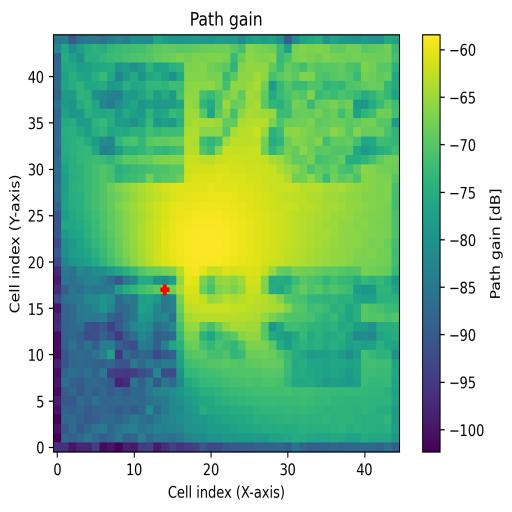Concrete: (284, 65, 361, 183)
Glass: (108, 62, 184, 183)
Metal: (285, 268, 361, 389)
Wood: (95, 268, 175, 392)
